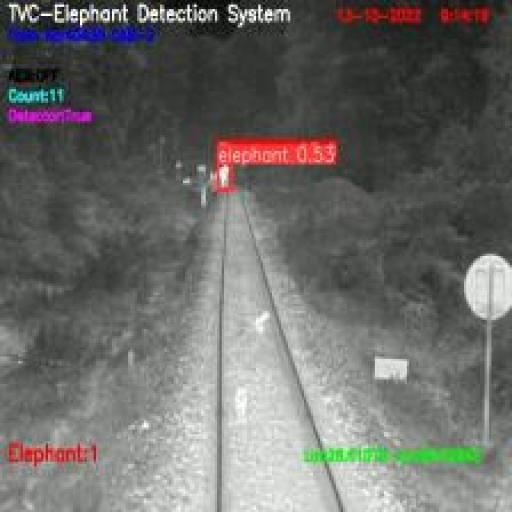Elephant: (217, 162, 231, 190)
